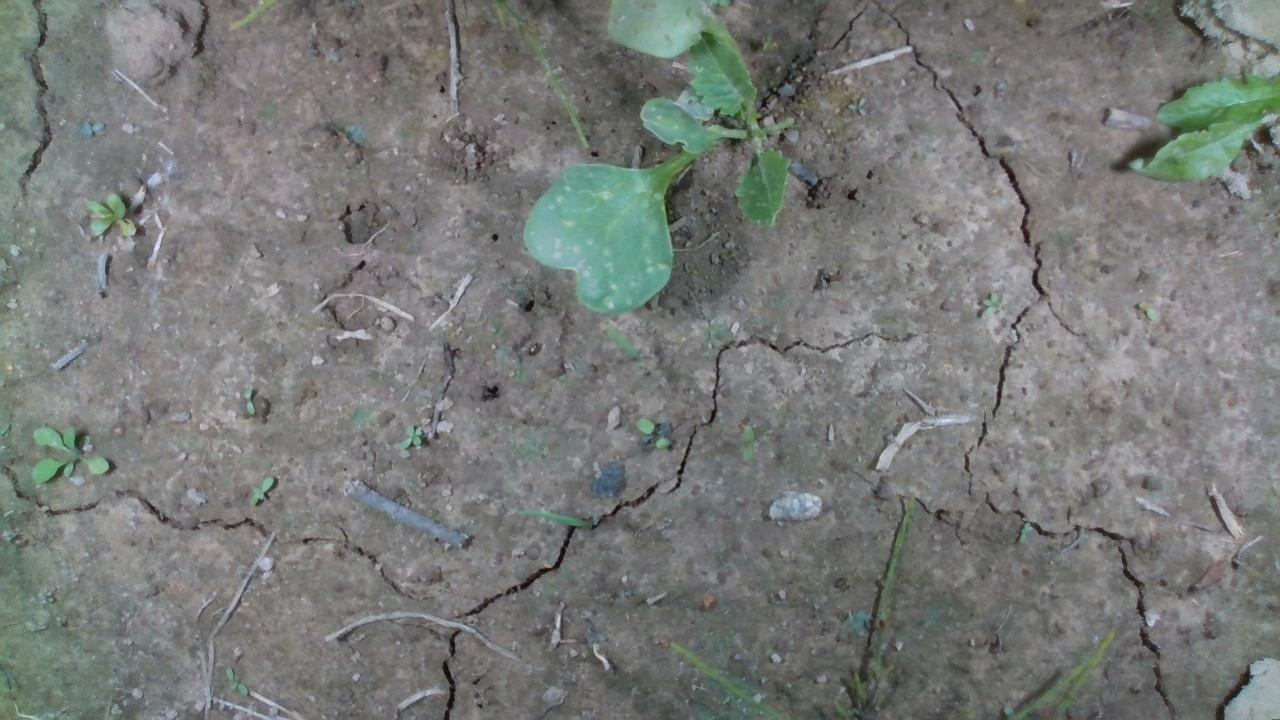weed: (30, 423, 110, 480), (82, 187, 137, 237), (633, 415, 670, 452), (247, 473, 274, 507), (396, 420, 423, 449), (224, 666, 248, 698), (739, 423, 757, 463), (77, 117, 106, 137), (240, 384, 256, 417), (980, 287, 998, 315)
